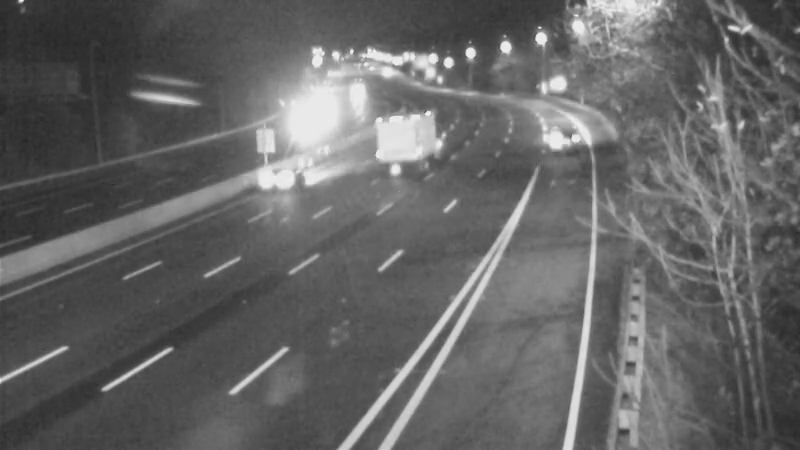vehicle: (239, 135, 319, 215), (532, 112, 582, 162), (370, 114, 420, 164), (272, 104, 322, 154), (332, 63, 382, 113)
